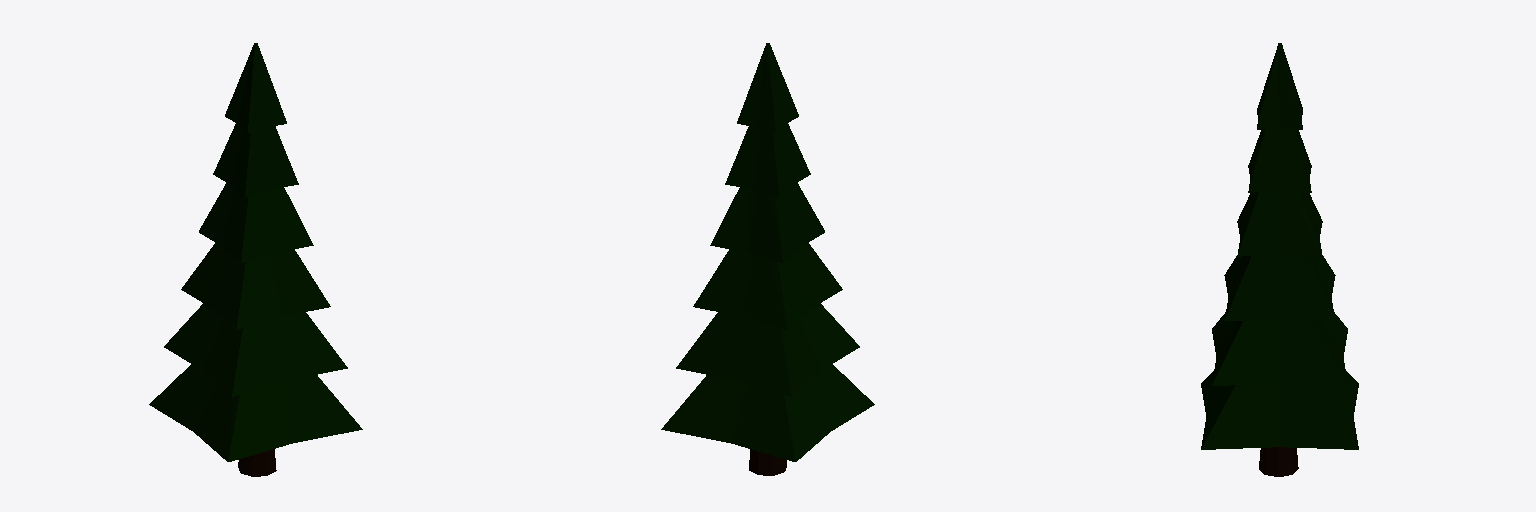
File: PineTree1.obj
3 views of the same model, side by side, from view 1: azimuth 30°, elevation 25°; view 2: azimuth 150°, elevation 25°; view 3: azimuth 270°, elevation 25° (orthographic).
Parts seen in each view (by area): view 1: Cylinder_Cylinder.001; view 2: Cylinder_Cylinder.001; view 3: Cylinder_Cylinder.001.
Boxes of the visible parts, x1=… form: Cylinder_Cylinder.001: x1=149, y1=43, x2=362, y2=476; Cylinder_Cylinder.001: x1=661, y1=43, x2=874, y2=475; Cylinder_Cylinder.001: x1=1201, y1=43, x2=1358, y2=476.
Size of the model in its own units: 3.57 by 10.73 by 3.62.